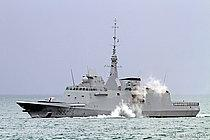MIL_Ship: (14, 54, 200, 118)
